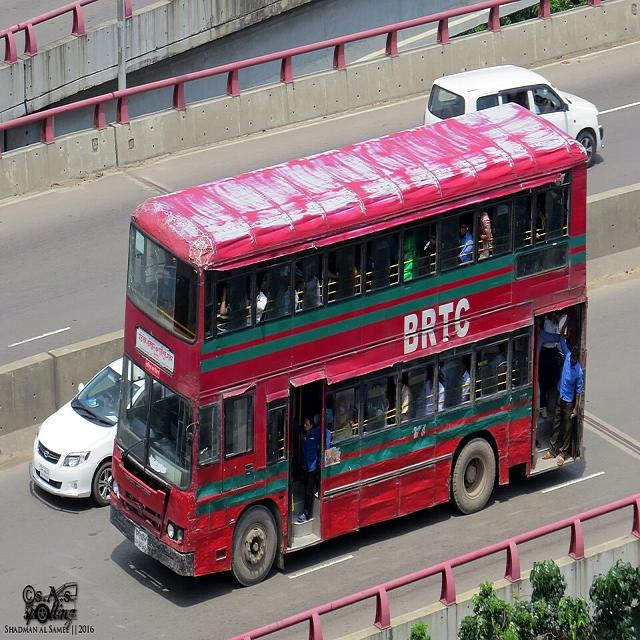Car: (25, 363, 135, 526)
Double decker: (110, 99, 594, 605)
